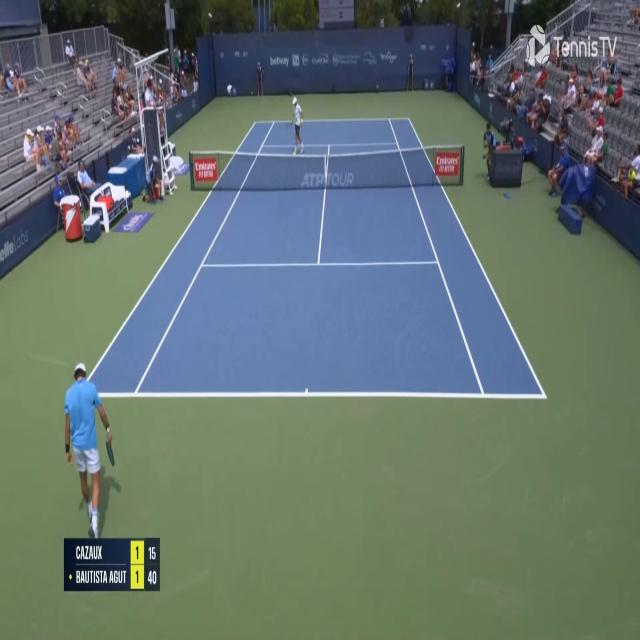tennis-player: (61, 342, 122, 538), (287, 92, 304, 157)
